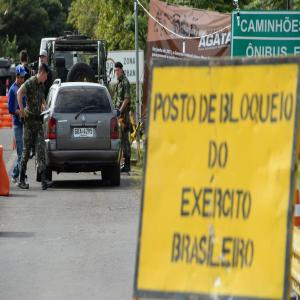Vehicle-registration-plate: (75, 130, 94, 139)
